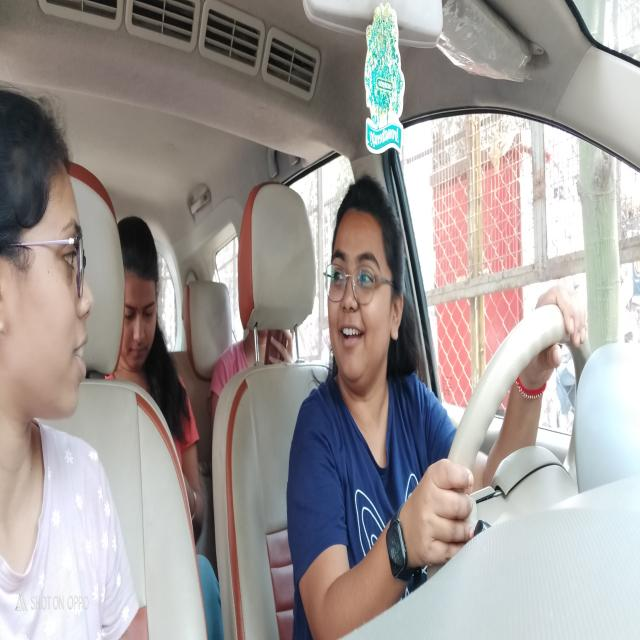LeftRight: (325, 177, 403, 385)
person: (0, 87, 95, 440), (117, 210, 161, 375)
talking: (71, 328, 92, 384), (338, 320, 367, 352)
